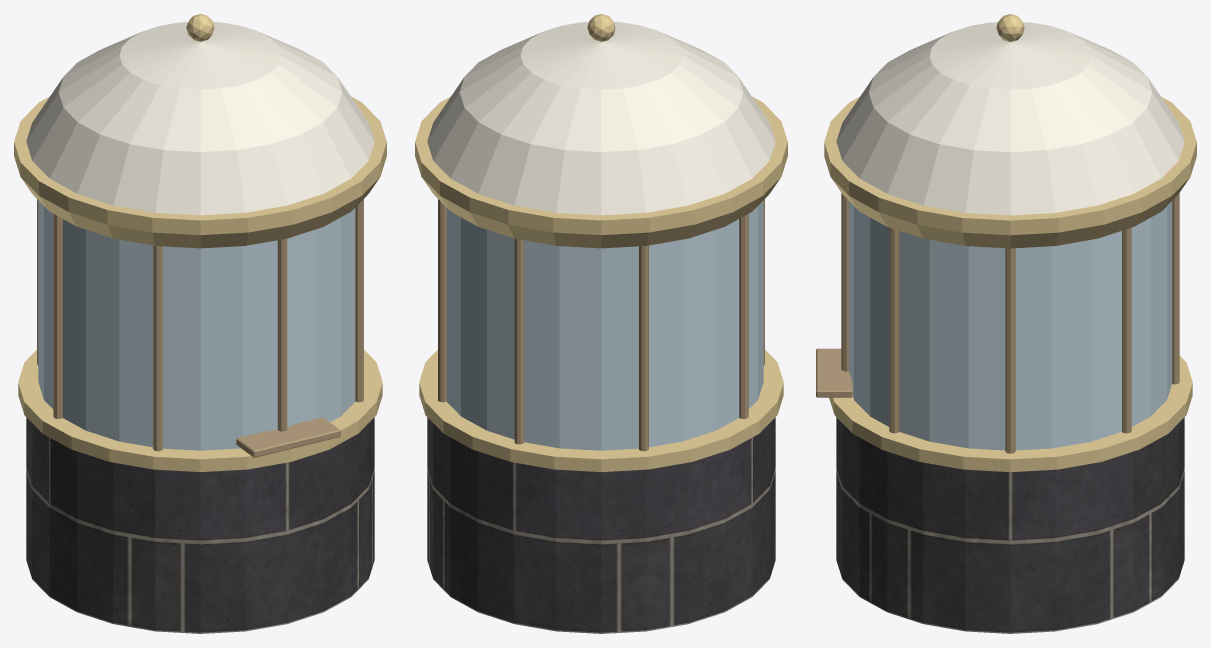
Rendered from booth.glb.
3 renders of one model, left to right at view 1: azimuth 30°, elevation 25°; view 2: azimuth 150°, elevation 25°; view 3: azimuth 270°, elevation 25°, orthographic.
Parts seen in each view (by area): view 1: booth_glass, booth_plinth, booth_marquee, booth_gold, booth_bronze; view 2: booth_glass, booth_plinth, booth_marquee, booth_gold, booth_bronze; view 3: booth_glass, booth_plinth, booth_marquee, booth_gold, booth_bronze.
Boxes of the visible parts, bbox=[...] form: booth_glass: bbox=[38, 200, 355, 450]; booth_plinth: bbox=[26, 417, 374, 633]; booth_marquee: bbox=[26, 22, 374, 215]; booth_gold: bbox=[14, 14, 386, 471]; booth_bronze: bbox=[37, 199, 363, 457]; booth_glass: bbox=[446, 200, 763, 450]; booth_plinth: bbox=[427, 417, 775, 633]; booth_marquee: bbox=[427, 22, 775, 215]; booth_gold: bbox=[415, 14, 787, 471]; booth_bronze: bbox=[438, 199, 764, 451]; booth_glass: bbox=[849, 201, 1171, 450]; booth_plinth: bbox=[836, 417, 1184, 633]; booth_marquee: bbox=[836, 22, 1184, 215]; booth_gold: bbox=[824, 14, 1196, 472]; booth_bronze: bbox=[816, 193, 1179, 453].
Bounding box in the file's own units: 1.84 × 2.97 × 1.88.
5 materials, 1 textured.
